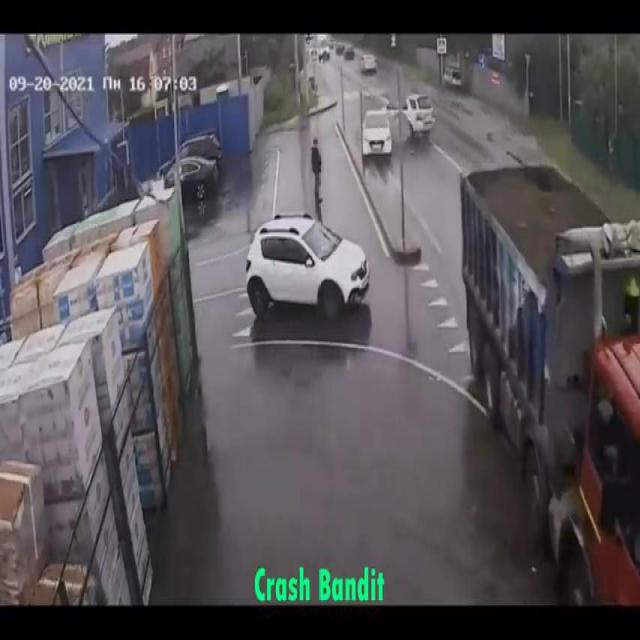moderate: (361, 81, 437, 168)
